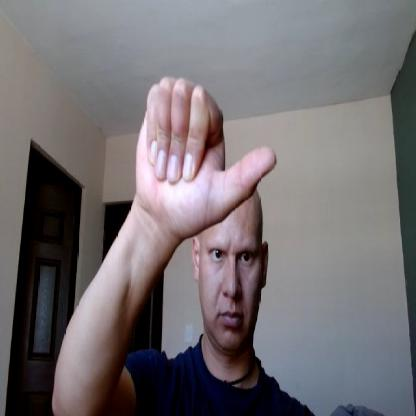A: (136, 76, 276, 238)
